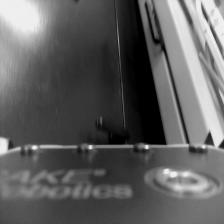Door Handle: (92, 114, 132, 144)
